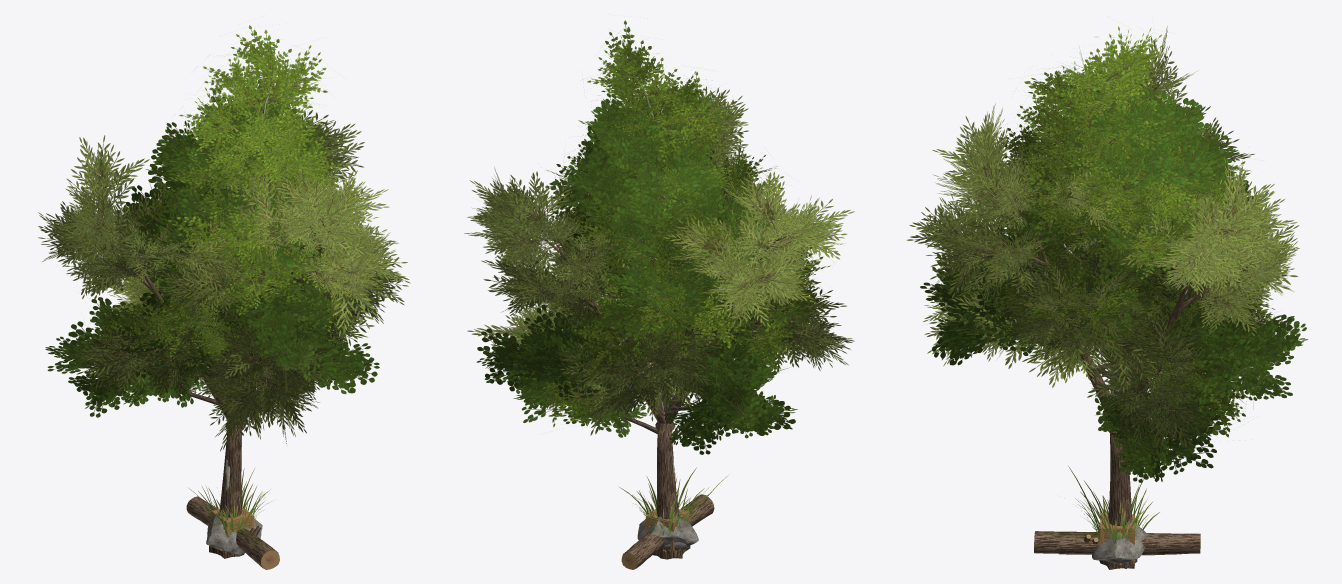
The model's file is props.glb.
The picture shows the model from 3 angles, left to right: view 1: azimuth 30°, elevation 25°; view 2: azimuth 150°, elevation 25°; view 3: azimuth 270°, elevation 25°; orthographic projection. The views are drawn at different scales.
Parts seen in each view (by area): view 1: tree_3_leaves, tree_2_leaves, tree_1_leaves, tree_3_wood, log_1_mesh, rock_3_mesh, reed_2_blades, reed_1_blades, crate_1_mesh; view 2: tree_3_leaves, tree_1_leaves, tree_2_leaves, tree_3_wood, log_1_mesh, rock_3_mesh, reed_2_blades, reed_1_blades; view 3: tree_3_leaves, tree_1_leaves, tree_2_leaves, tree_3_wood, log_1_mesh, rock_3_mesh, reed_1_blades, reed_2_blades.
Part boxes in pixels (box(x1,y1,x2,y2)): tree_3_leaves: box(38, 110, 410, 451); tree_2_leaves: box(86, 25, 369, 384); tree_1_leaves: box(45, 72, 379, 417); tree_3_wood: box(99, 197, 351, 558); log_1_mesh: box(186, 496, 279, 569); rock_3_mesh: box(206, 512, 262, 554); reed_2_blades: box(189, 467, 272, 536); reed_1_blades: box(198, 483, 265, 531); crate_1_mesh: box(211, 507, 254, 535); tree_3_leaves: box(464, 86, 854, 435); tree_1_leaves: box(476, 93, 818, 454); tree_2_leaves: box(522, 20, 830, 427); tree_3_wood: box(519, 212, 798, 559); log_1_mesh: box(621, 494, 714, 569); rock_3_mesh: box(637, 514, 698, 549); reed_2_blades: box(618, 467, 728, 533); reed_1_blades: box(636, 483, 706, 535); tree_3_leaves: box(906, 26, 1299, 455); tree_1_leaves: box(920, 84, 1307, 482); tree_2_leaves: box(976, 26, 1274, 437); tree_3_wood: box(967, 87, 1249, 569); log_1_mesh: box(1034, 531, 1200, 555); rock_3_mesh: box(1092, 520, 1148, 560); reed_1_blades: box(1080, 488, 1159, 539); reed_2_blades: box(1068, 466, 1152, 538).
Bounding box in the file's own units: 6.91 × 8.93 × 6.25.
7 materials, 6 textured.
